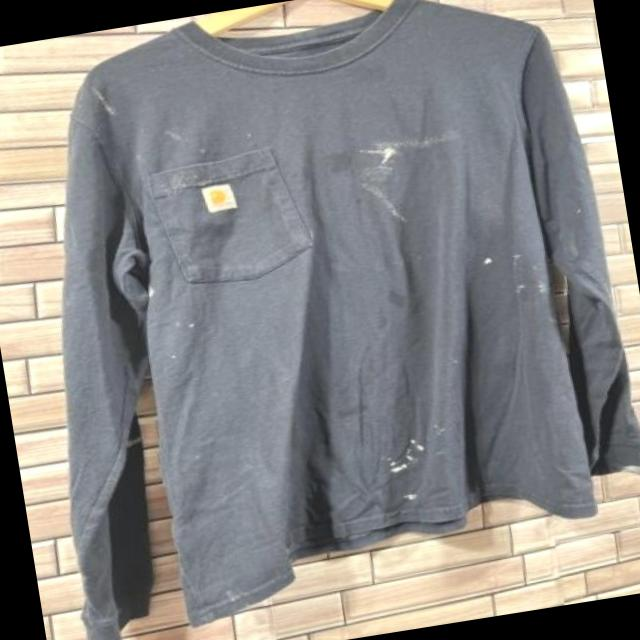stain: (354, 166, 418, 233), (364, 128, 464, 166), (85, 80, 134, 132), (383, 430, 432, 482), (476, 248, 524, 274), (512, 275, 553, 300), (159, 126, 191, 148), (170, 313, 207, 332)
